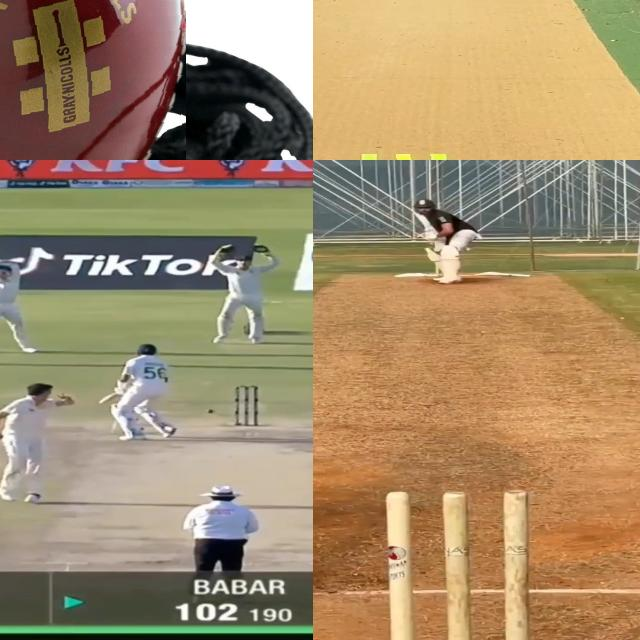Cricket ball: (0, 0, 185, 160), (379, 486, 532, 640), (207, 408, 214, 414)
Stumps: (235, 385, 258, 426)
